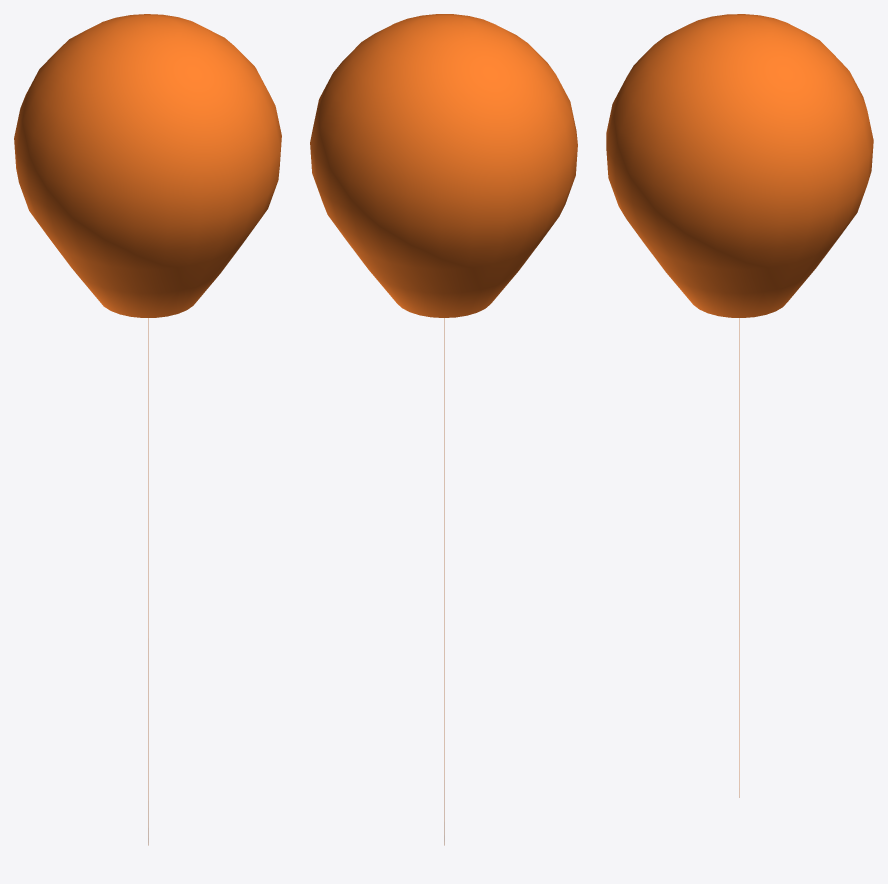
File: Ballon_MES.FBX
3 views of the same model, side by side, from view 1: azimuth 30°, elevation 25°; view 2: azimuth 150°, elevation 25°; view 3: azimuth 270°, elevation 25° (orthographic).
Visible parts, largest first — view 1: Ballon; view 2: Ballon; view 3: Ballon.
Boxes of the visible parts, box(x1,y1,x2,y2) form: Ballon: box(14, 14, 281, 845); Ballon: box(310, 14, 577, 845); Ballon: box(606, 14, 873, 797).
Size of the model in its own units: 47.71 by 166 by 47.62.
Materials: 1 (1 with a texture image).
